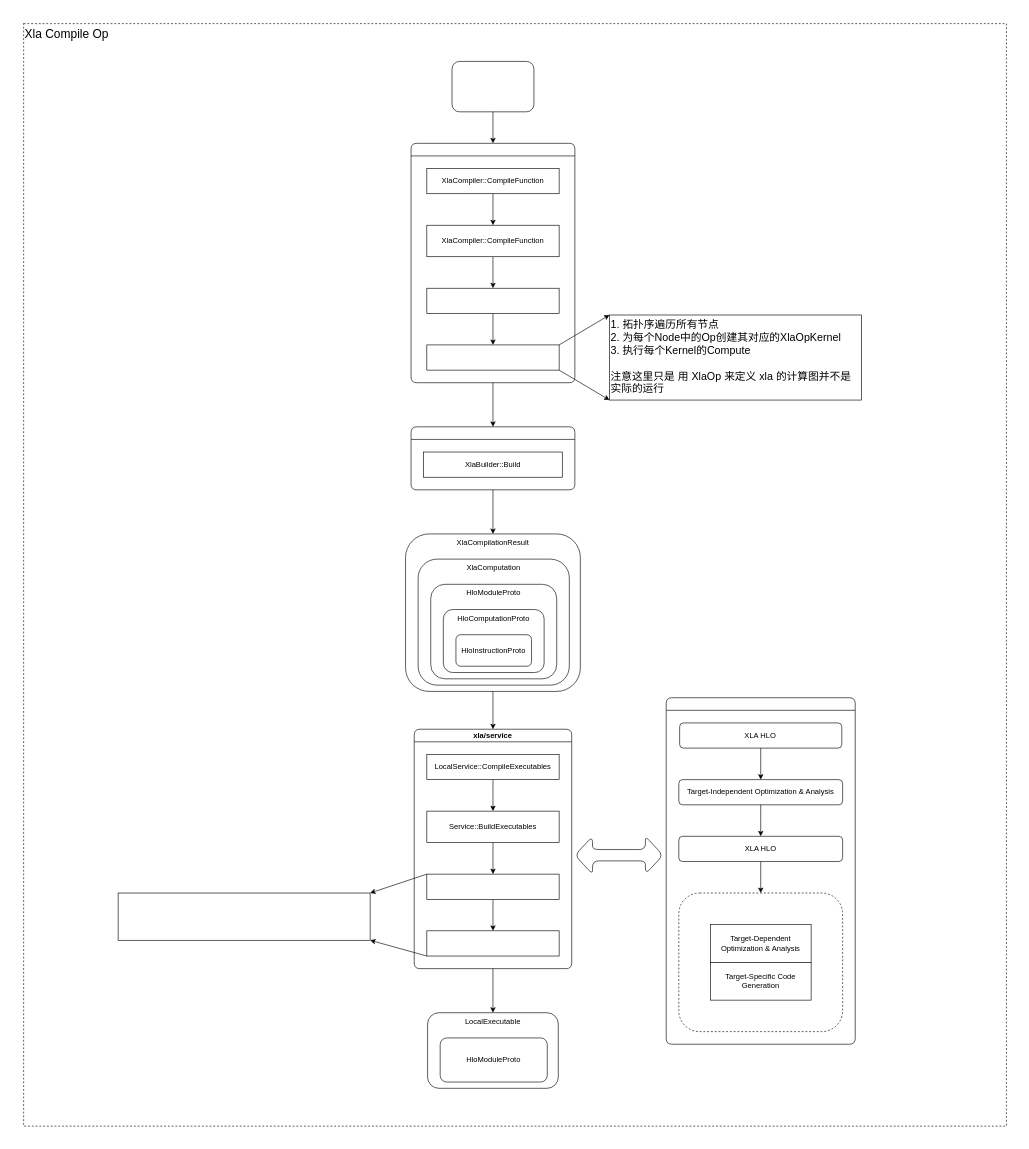
Some shapes in this 1029 by 1149 pixel diagram are drawn without their labels. Here are the shapes that lost their labels. From the top down, the box of each, then its label:
(451, 61, 534, 112): TFGraph TF Funtion
(410, 143, 575, 383): TF2Xla
(426, 288, 559, 313): ExecuteGraph
(426, 344, 559, 370): GraphCompiler::Compile
(410, 426, 575, 490): Xla/Client
(426, 873, 559, 899): Compiler::Compile
(666, 697, 855, 1044): Process
(117, 892, 370, 940): 1. RunHloPasses, 对应于下图的硬件无关优化 2. RunBackend, 对应于下图的硬件相关优化以及Codegen
(426, 930, 559, 956): LLVMCompiler::Compile
(678, 892, 843, 1032): XLA BackEnds
